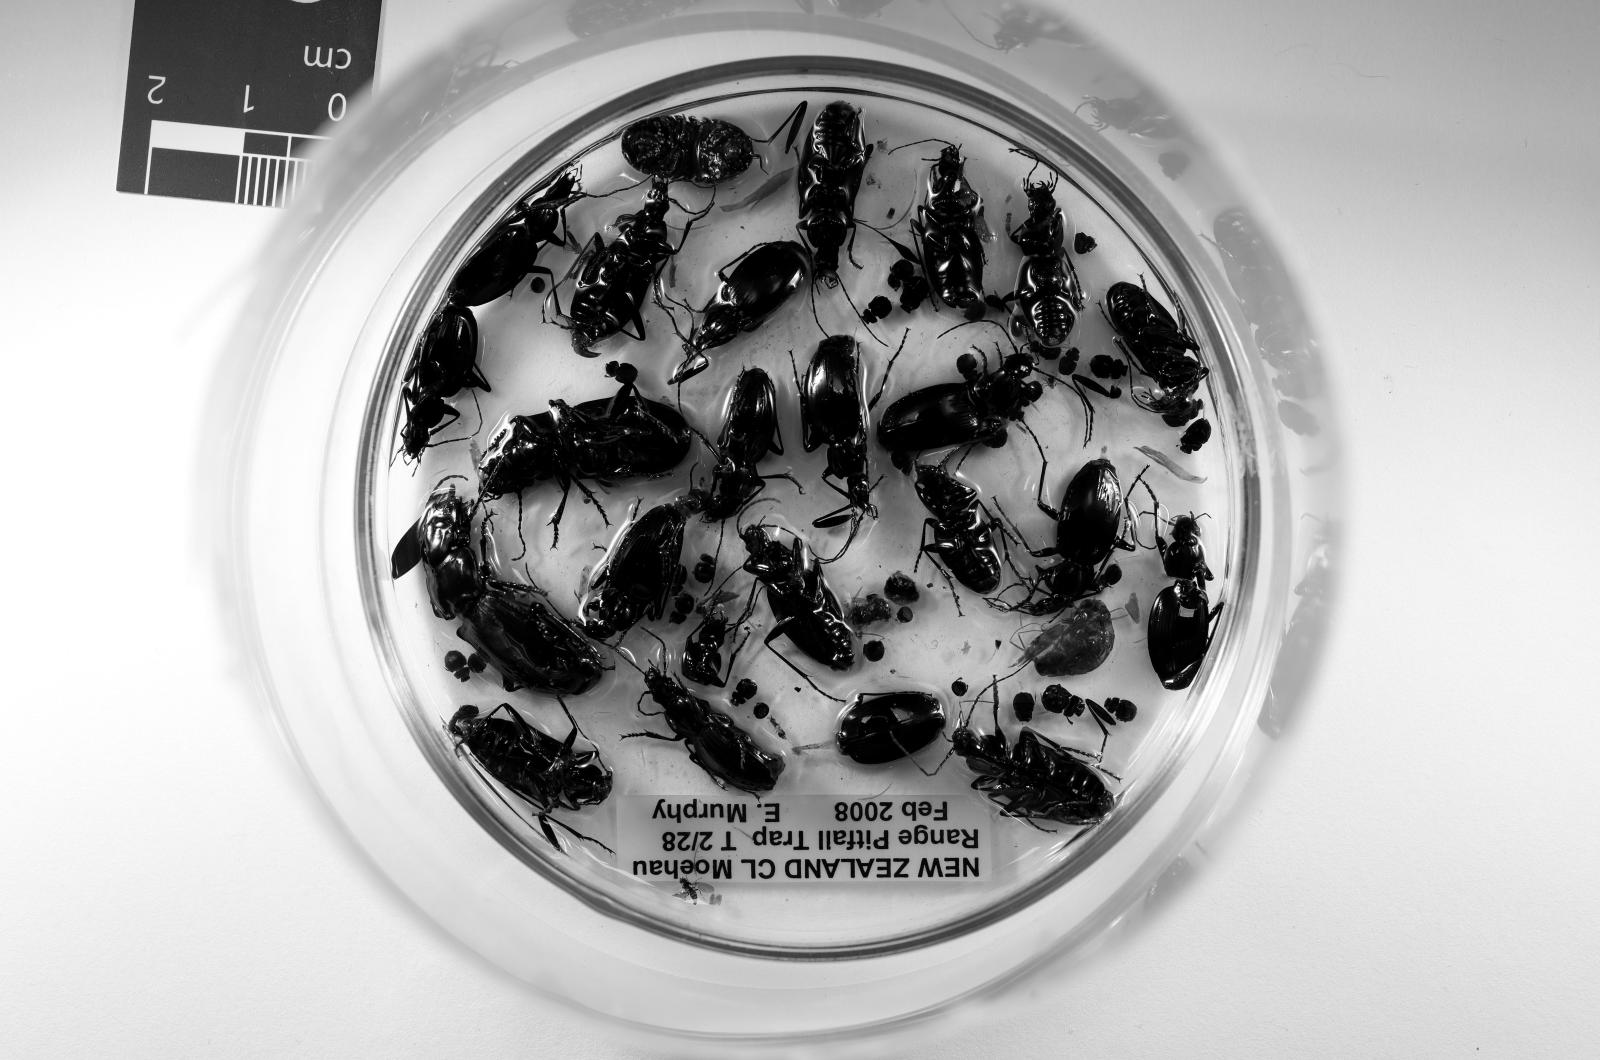amphipoda: (1018, 600, 1115, 677)
carabidae: (409, 487, 609, 696), (478, 382, 691, 543), (578, 491, 710, 640), (631, 667, 784, 795), (672, 243, 809, 382), (569, 180, 678, 354), (447, 170, 584, 308), (447, 705, 613, 810), (1025, 457, 1134, 615), (879, 373, 1041, 472), (953, 726, 1115, 826), (744, 525, 853, 671), (1103, 283, 1206, 426), (797, 103, 872, 286), (1147, 506, 1222, 690), (403, 304, 491, 459), (799, 336, 869, 509), (706, 369, 784, 522), (1010, 183, 1081, 348), (913, 146, 984, 308), (915, 466, 1000, 593)
coleoptera: (1041, 686, 1084, 724), (1178, 419, 1212, 453), (900, 273, 928, 314), (862, 295, 894, 323), (1103, 699, 1138, 724), (1090, 354, 1125, 379), (607, 360, 637, 386), (887, 258, 913, 289), (669, 593, 694, 625), (443, 649, 468, 680), (1012, 692, 1035, 724), (694, 552, 715, 584), (731, 680, 757, 705), (957, 354, 978, 382), (1060, 348, 1078, 376), (529, 277, 546, 295)
isopoda: (622, 115, 753, 183)
